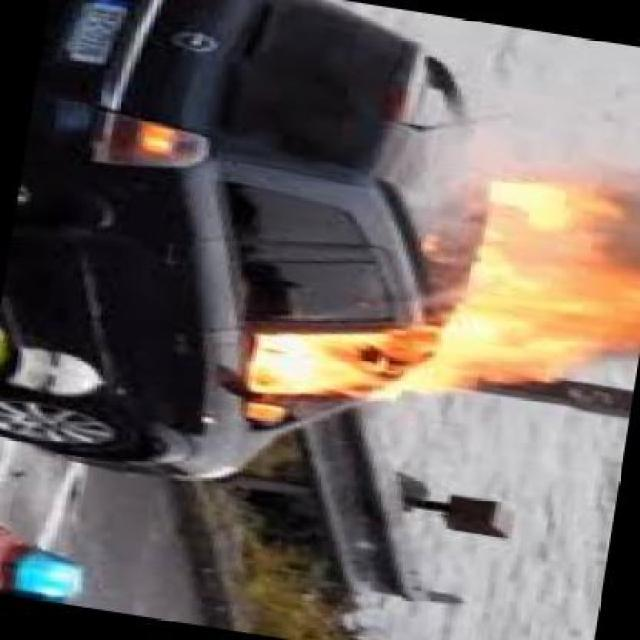Fire: (225, 166, 640, 428)
